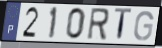0: (64, 7, 88, 41)
1: (47, 6, 58, 40)
2: (22, 6, 41, 39)
G: (132, 10, 155, 42)
R: (85, 7, 110, 42)
T: (113, 7, 133, 43)
